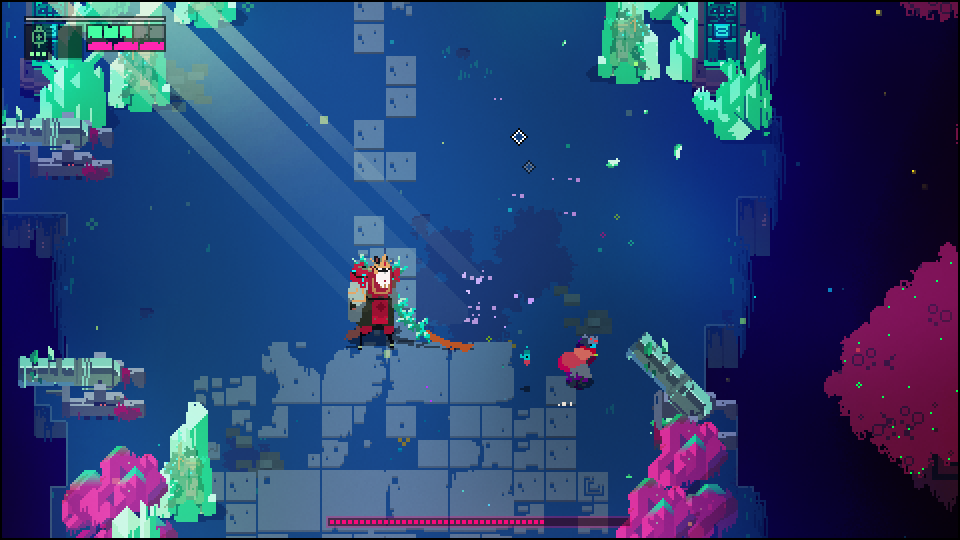hanged_man: (343, 245, 435, 359)
player: (555, 329, 600, 384)
